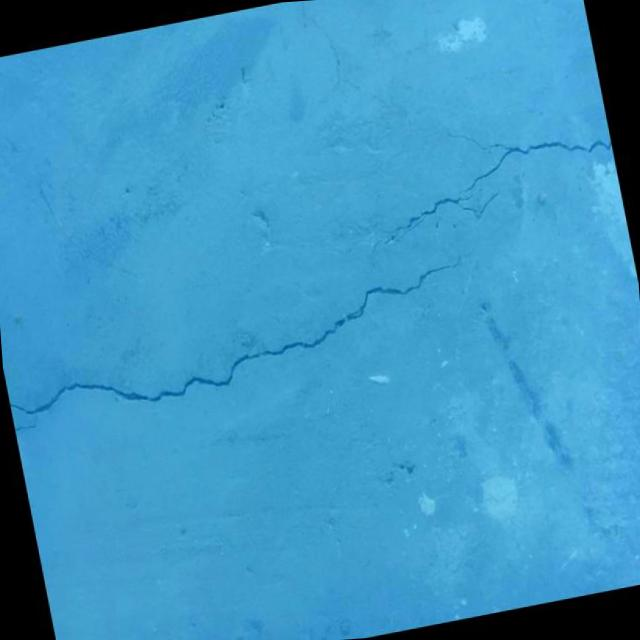crack: (0, 252, 482, 431), (300, 0, 627, 263)
